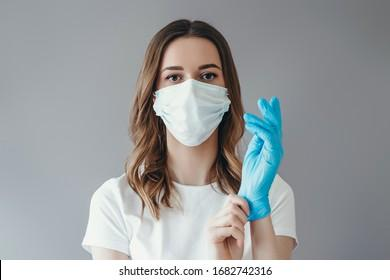gloves: (236, 96, 284, 221)
